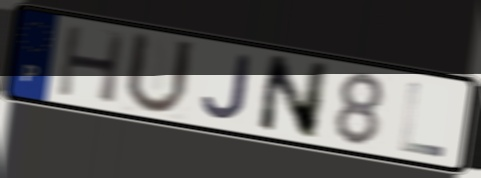8: (331, 69, 389, 148)
H: (54, 21, 129, 106)
J: (199, 52, 254, 123)
L: (398, 79, 448, 160)
N: (254, 52, 333, 142)
U: (121, 28, 197, 118)
